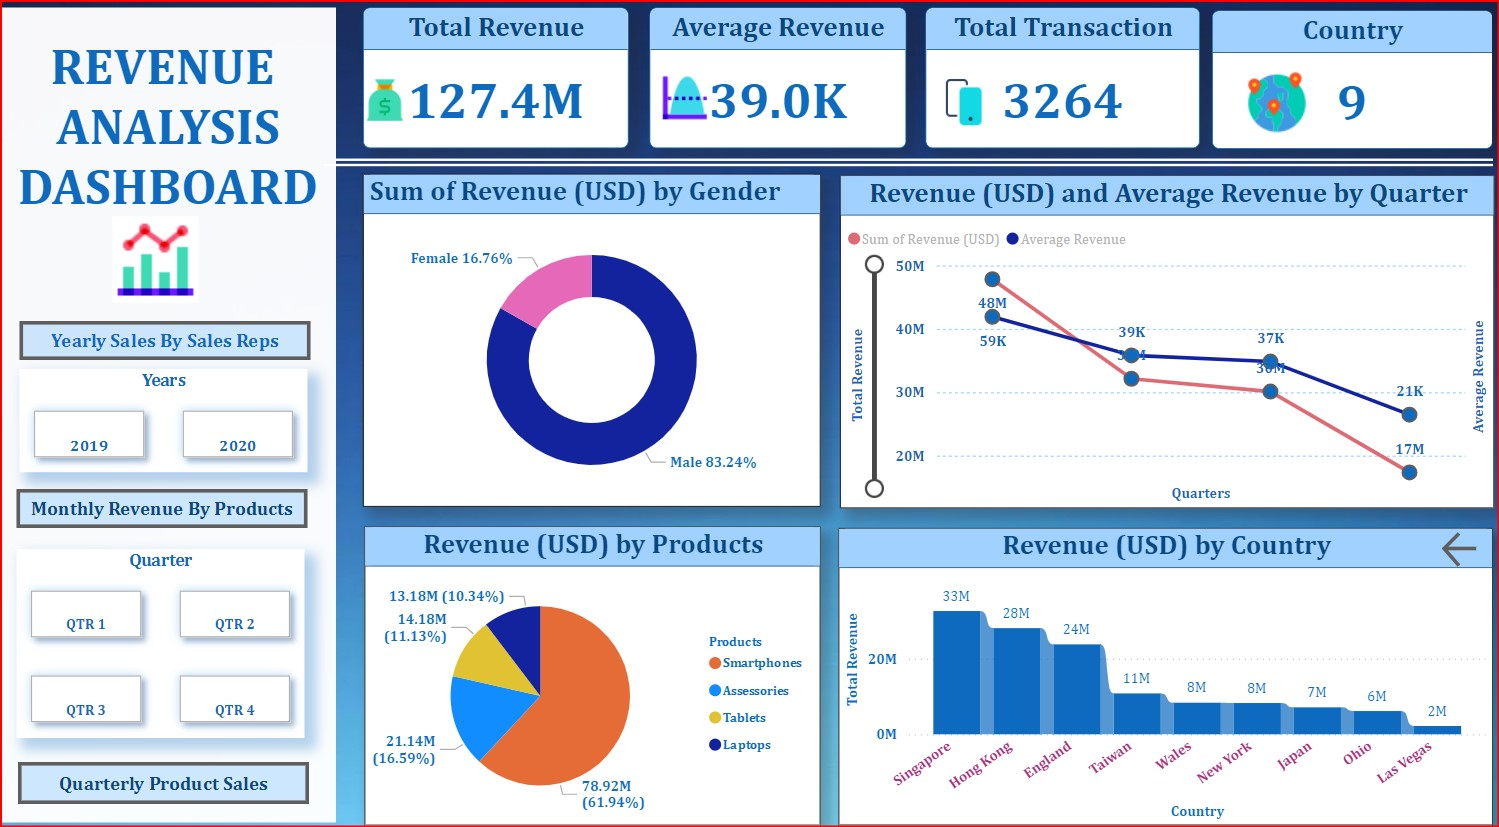

The dashboard page shown, as its layout file describes it:
{"tool":"powerbi","page":{"name":"Page 1","canvas":[1280,720],"ordinal":0},"visuals":[{"type":"textbox","box":[10.6,16.7,280.1,679.9],"z":0},{"type":"card","title":"Total Revenue","fields":{"Values":["Sum(Table1.Revenue (USD))"]},"box":[312.5,16.2,221.2,117.5],"z":1000},{"type":"card","title":"Average Revenue","fields":{"Values":["Table1.Average Revenue"]},"box":[551.2,16.2,213.8,117.5],"z":2000},{"type":"card","title":"Total Transaction","fields":{"Values":["Table1.Total Transactions"]},"box":[781.2,16.2,228.8,117.5],"z":3000},{"type":"advancedSlicerVisual","fields":{"Values":["Table1.Years"]},"box":[26.2,317.5,240,86.2],"z":4000},{"type":"advancedSlicerVisual","fields":{"Values":["Table1.Quarter"]},"box":[23.8,467.5,240,157.5],"z":5000},{"type":"lineChart","title":"Revenue (USD) and Average Revenue by Quarter","fields":{"Category":["Table1.Quarter"],"Y":["Sum(Table1.Revenue (USD))"],"Y2":["Table1.Average Revenue"]},"box":[710,156.2,546.2,277.5],"z":6000},{"type":"donutChart","fields":{"Category":["Table1.Gender"],"Y":["Sum(Table1.Revenue (USD))"]},"box":[312.5,155,381.2,277.5],"z":7000},{"type":"pieChart","title":" Revenue (USD) by Products","fields":{"Category":["Table1.Products"],"Y":["Sum(Table1.Revenue (USD))"]},"box":[313.8,448.8,380,250],"z":8000},{"type":"columnChart","title":"Revenue (USD) by Country","fields":{"Category":["Table1.Country"],"Y":["Sum(Table1.Revenue (USD))"]},"box":[708.6,450,545.7,248.6],"z":10000},{"type":"actionButton","title":"to pie chart","box":[1207.1,448.6,72.9,38.6],"z":11000},{"type":"actionButton","box":[26.2,277.5,242.5,32.5],"z":13000},{"type":"card","title":"Country","fields":{"Values":["Count(Table1.Country)"]},"box":[1020,18.8,233.8,115],"z":14000},{"type":"actionButton","title":"Quartly Product Sales","box":[25,645,242.5,35],"z":15000},{"type":"image","box":[1037.5,62.5,73.8,65],"z":16000},{"type":"image","box":[781.2,68.8,62.5,52.5],"z":17000},{"type":"image","box":[303.8,65,53.8,56.2],"z":18000},{"type":"image","box":[26.2,185,226.2,82.5],"z":19000},{"type":"image","box":[551.2,62.5,57.5,57.5],"z":20000},{"type":"actionButton","box":[23.8,417.5,242.5,32.5],"z":21000},{"type":"shape","box":[290,101.2,965,83.8],"z":21001},{"type":"shape","box":[280,95,975,105],"z":21002}]}

Visuals, with their boxes in screenshot pixels (x1, y1, x2, y2), scaled from the page's 1280x720 canvas onto the 1499x827 screenshot:
textbox: left=12, top=19, right=340, bottom=800
"Total Revenue" card: left=366, top=19, right=625, bottom=154
"Average Revenue" card: left=646, top=19, right=896, bottom=154
"Total Transaction" card: left=915, top=19, right=1183, bottom=154
advancedSlicerVisual - Table1.Years: left=31, top=365, right=312, bottom=464
advancedSlicerVisual - Table1.Quarter: left=28, top=537, right=309, bottom=718
"Revenue (USD) and Average Revenue by Quarter" lineChart: left=831, top=179, right=1471, bottom=498
donutChart - Table1.Gender x Sum(Table1.Revenue (USD)): left=366, top=178, right=812, bottom=497
" Revenue (USD) by Products" pieChart: left=367, top=515, right=813, bottom=803
"Revenue (USD) by Country" columnChart: left=830, top=517, right=1469, bottom=802
"to pie chart" actionButton: left=1414, top=515, right=1498, bottom=560
actionButton: left=31, top=319, right=315, bottom=356
"Country" card: left=1195, top=22, right=1468, bottom=154
"Quartly Product Sales" actionButton: left=29, top=741, right=313, bottom=781
image: left=1215, top=72, right=1301, bottom=146
image: left=915, top=79, right=988, bottom=139
image: left=356, top=75, right=419, bottom=139
image: left=31, top=212, right=296, bottom=307
image: left=646, top=72, right=713, bottom=138
actionButton: left=28, top=480, right=312, bottom=517
shape: left=340, top=116, right=1470, bottom=212
shape: left=328, top=109, right=1470, bottom=230
